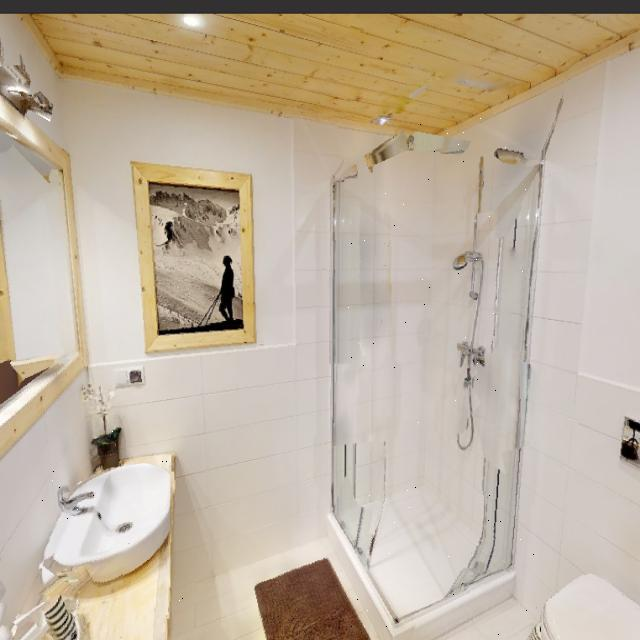shower: (344, 110, 535, 639)
sink: (35, 430, 194, 602)
toilet: (526, 558, 640, 640)
